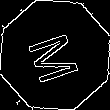M_E: (24, 25, 86, 85)
